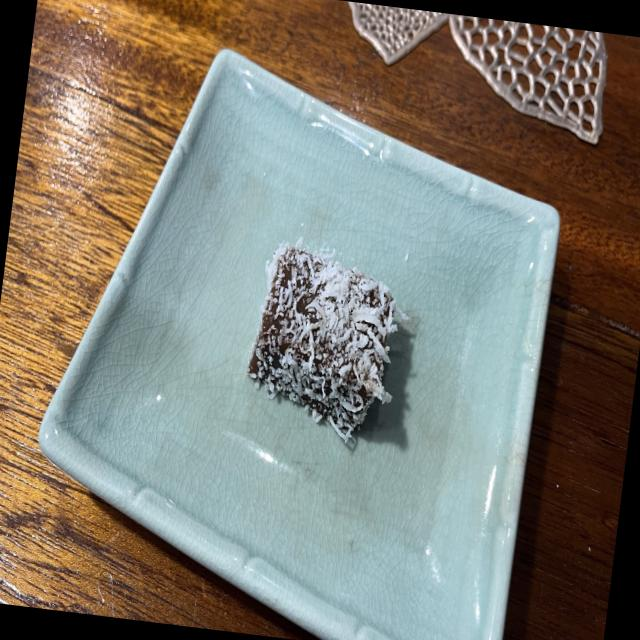kaswi: (247, 241, 396, 440)
